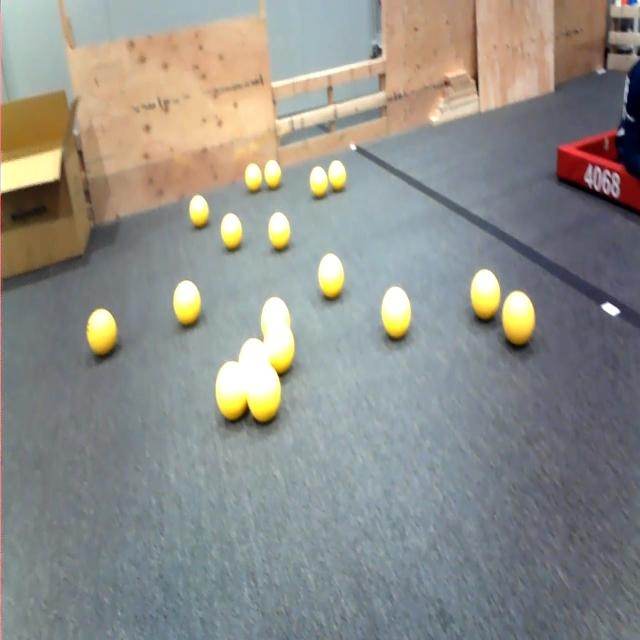fuel: (247, 361, 281, 423), (215, 361, 248, 421), (502, 291, 535, 346), (264, 322, 294, 375), (382, 287, 411, 339), (470, 270, 500, 320), (87, 309, 117, 356), (173, 280, 201, 326), (261, 296, 290, 336), (318, 254, 344, 298), (238, 337, 267, 370), (268, 212, 290, 250), (221, 213, 242, 250), (189, 195, 209, 228), (328, 160, 346, 191), (310, 167, 328, 198), (264, 160, 281, 189), (245, 163, 262, 192)
